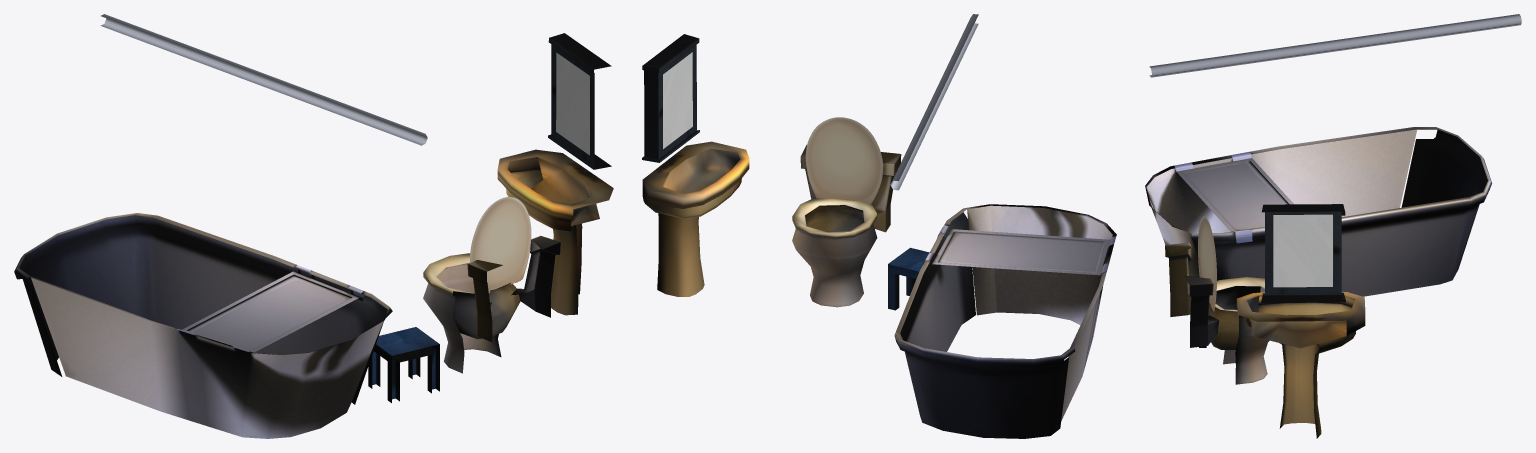
Rendered from bathroom_objects.dae.
3 views of the same model, side by side, from view 1: azimuth 30°, elevation 25°; view 2: azimuth 150°, elevation 25°; view 3: azimuth 270°, elevation 25° (orthographic). The views are drawn at different scales.
Parts seen in each view (by area): view 1: bath_inside, bath_outside, bath_tray, showerrail, toiletseat, toilet_front_outside, toilet_back, sink_top, stand, cabinet, mirror, sink_plinth (+3 smaller); view 2: bath_outside, bath_inside, bath_tray, toilet_front_outside, toiletseat, cabinet, sink_plinth, sink_top, mirror, sinkbowl_inside, showerrail, toilet_back (+3 smaller); view 3: bath_outside, bath_inside, bath_tray, showerrail, mirror, cabinet, toilet_back, sink_plinth, toilet_front_outside, sinkbowl_inside, sink_top, toilet_front_inside (+2 smaller).
Boxes of the visible parts, x1,y1,x2,y2 form: bath_inside: (31,277,383,438); bath_outside: (14,213,392,404); bath_tray: (182,271,359,352); showerrail: (100,14,427,145); toiletseat: (470,197,531,293); toilet_front_outside: (423,253,506,373); toilet_back: (467,236,560,342); sink_top: (497,149,613,220); stand: (368,327,439,402); cabinet: (548,33,611,169); mirror: (556,52,589,155); sink_plinth: (551,223,582,315); bath_outside: (894,204,1116,438); bath_inside: (967,205,1112,420); bath_tray: (932,229,1109,275); toilet_front_outside: (792,198,877,307); toiletseat: (805,117,883,204); cabinet: (642,34,699,162); sink_plinth: (657,213,704,296); sink_top: (642,141,749,208); mirror: (663,52,692,148); sinkbowl_inside: (662,148,739,193); showerrail: (890,14,978,190); toilet_back: (800,145,901,232); bath_outside: (1145,127,1491,296); bath_inside: (1147,129,1417,277); bath_tray: (1176,158,1293,231); showerrail: (1149,14,1521,77); mirror: (1273,214,1332,287); cabinet: (1261,204,1345,302); toilet_back: (1165,242,1219,347); sink_plinth: (1279,344,1321,438); toilet_front_outside: (1215,277,1269,384); sinkbowl_inside: (1246,296,1346,348); sink_top: (1236,291,1365,335); toilet_front_inside: (1208,286,1260,349).
Bounding box in the file's own units: 24.77 × 13.57 × 17.71.
18 materials, 18 textured.
